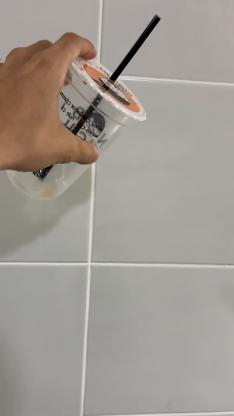Plastic Cup: (16, 57, 148, 193)
